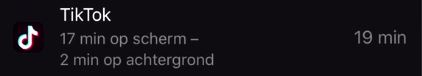name: (49, 2, 119, 26)
time: (59, 27, 109, 50), (57, 52, 103, 71)
